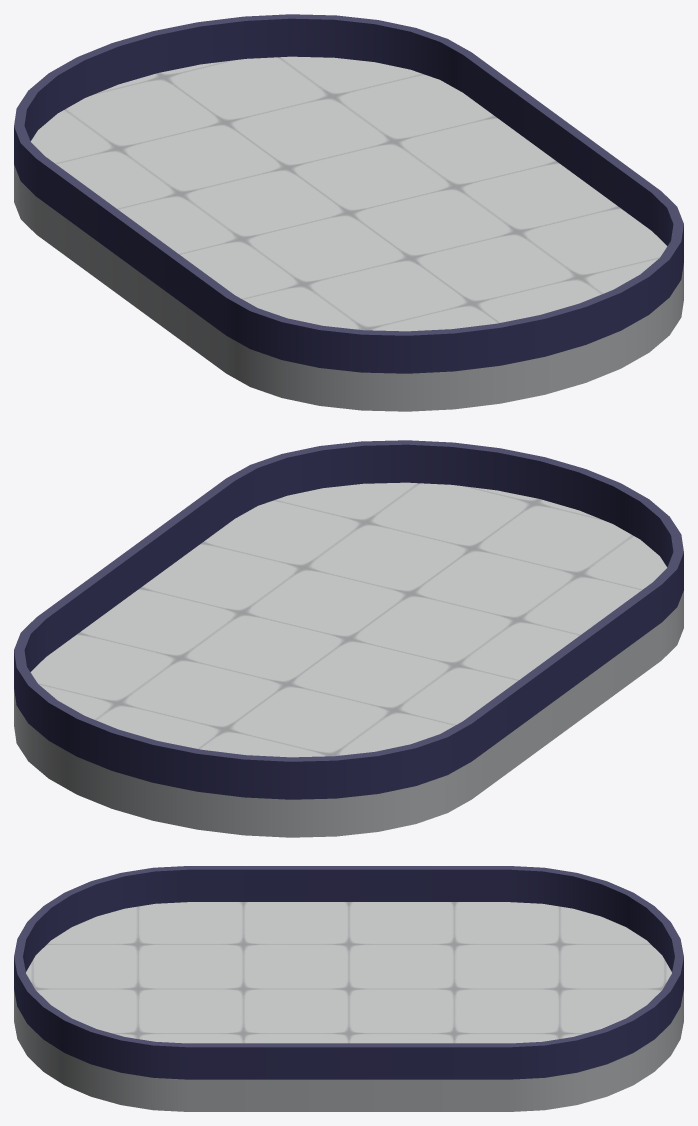
File: single_stage_12.fbx
3 renders of one model, top to bottom at view 1: azimuth 30°, elevation 25°; view 2: azimuth 150°, elevation 25°; view 3: azimuth 270°, elevation 25°, orthographic. The views are drawn at different scales.
Visible parts, largest first — view 1: Cylinder.040, Cylinder.041; view 2: Cylinder.040, Cylinder.041; view 3: Cylinder.040, Cylinder.041.
Part boxes in pixels (x1,y1,x2,y2): Cylinder.040: (14,56,683,411); Cylinder.041: (14,14,683,373); Cylinder.040: (14,482,683,837); Cylinder.041: (14,440,683,799); Cylinder.040: (14,902,683,1111); Cylinder.041: (14,866,683,1079).
Bounding box in the file's own units: 2401 × 400 × 3751.
